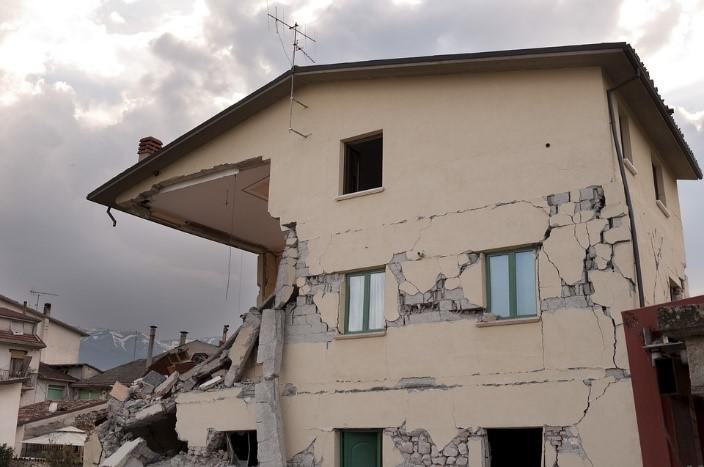crack: (393, 274, 471, 326), (574, 182, 615, 242), (576, 249, 609, 304), (282, 216, 309, 278), (599, 310, 622, 371)
